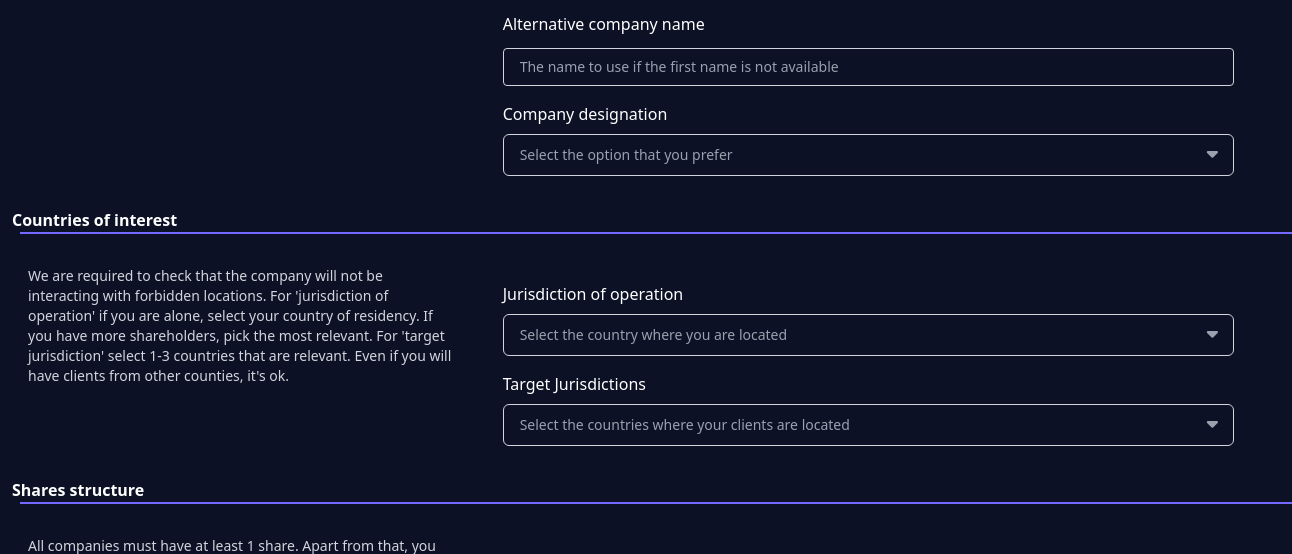
Testing Home View › testing Jurisdiction of operation valid
(page scrolled)
Click the text with test id "operation-country".
click(868, 335)  # box [503, 314, 1234, 356]
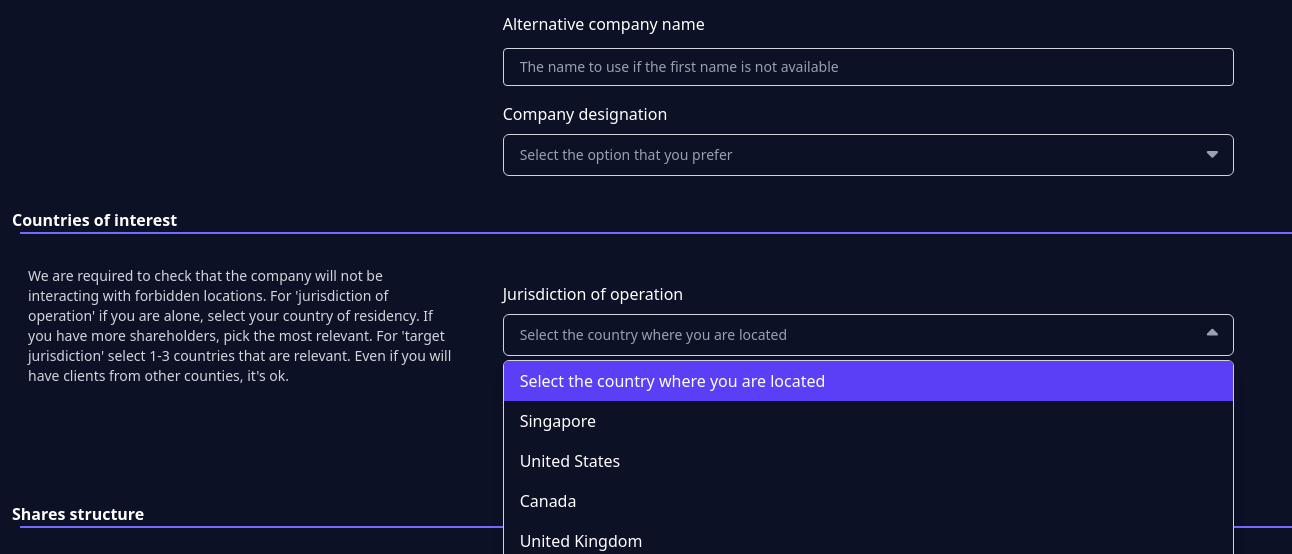
Click the option "Singapore".
click(558, 421)  # box [520, 410, 596, 432]
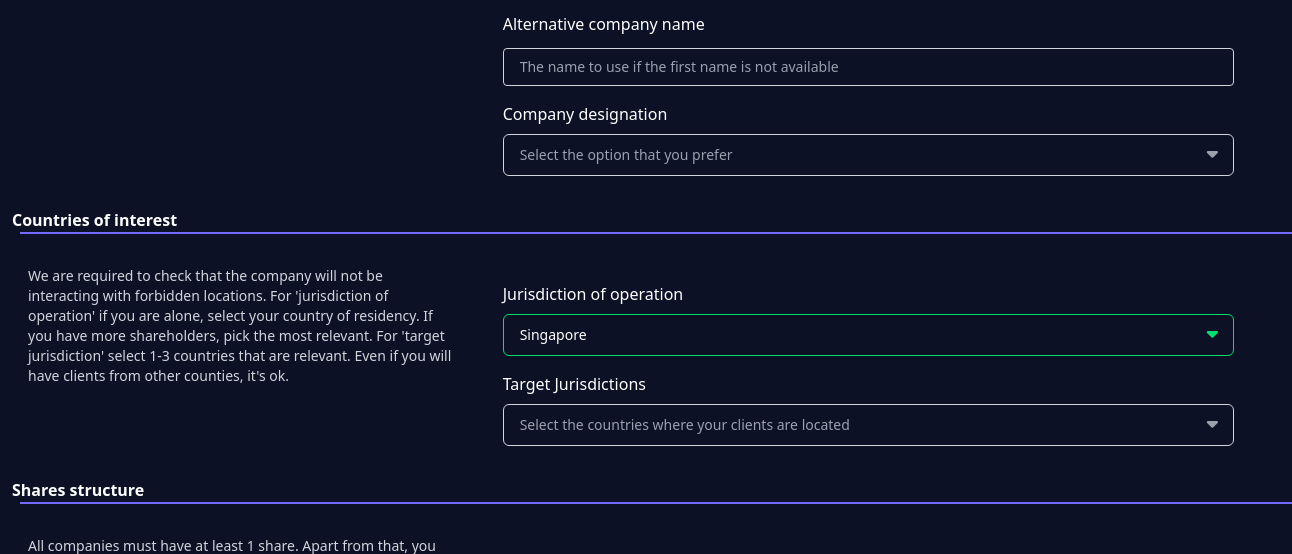
Now the text "Singapore" is shown, box [503, 314, 1234, 356]
Now the text "Please select a operation country from the list." is gone
